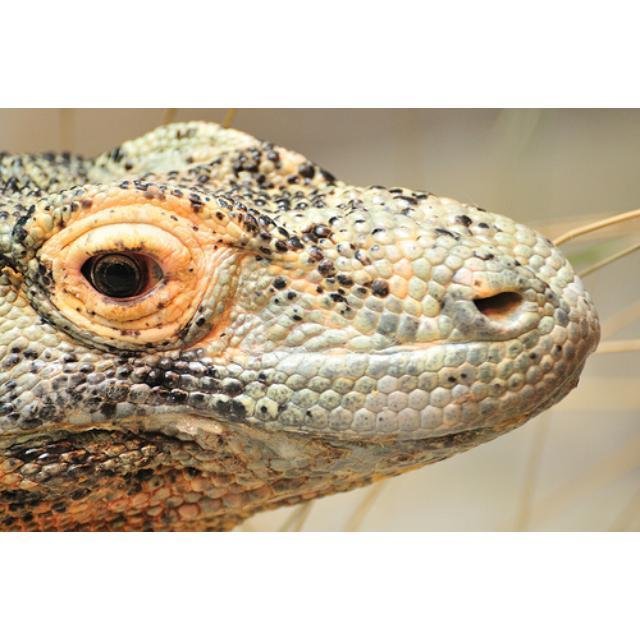KomodoDragon: (1, 118, 602, 531)
